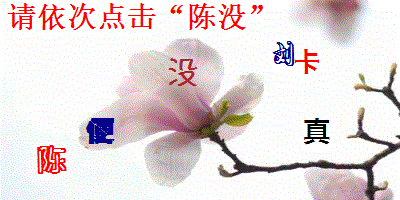text: (166, 56, 200, 88), (35, 144, 67, 176), (301, 117, 333, 148), (85, 117, 116, 146), (295, 48, 321, 75), (272, 39, 295, 67)
